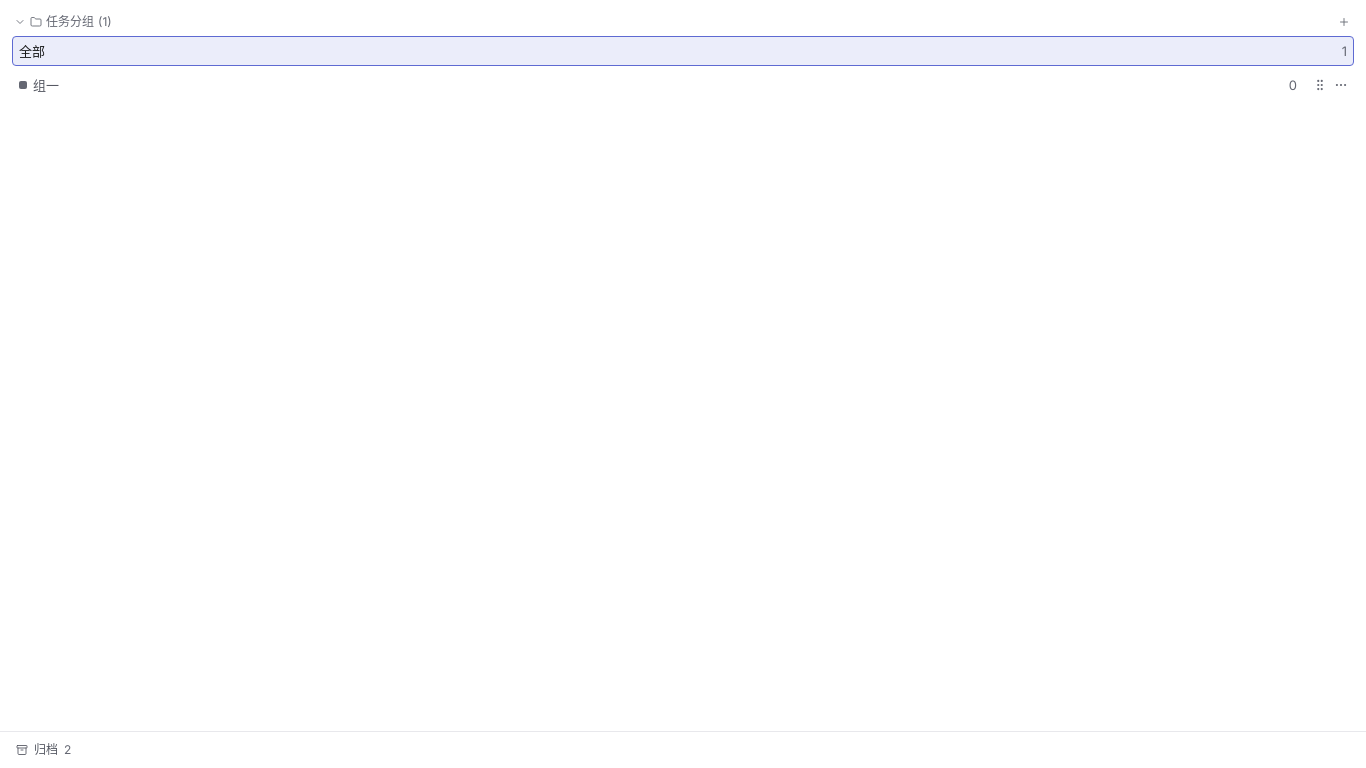
Test: TaskSidebarPanel（Task 14 重构：分组管理 + 归档入口） › 点归档入口打开 ArchivePanel（大号弹窗 + 归档行渲染）
This screenshot has width=1366, height=768.
Click the button "归档 2": (22, 750) [12,740,1354,760]
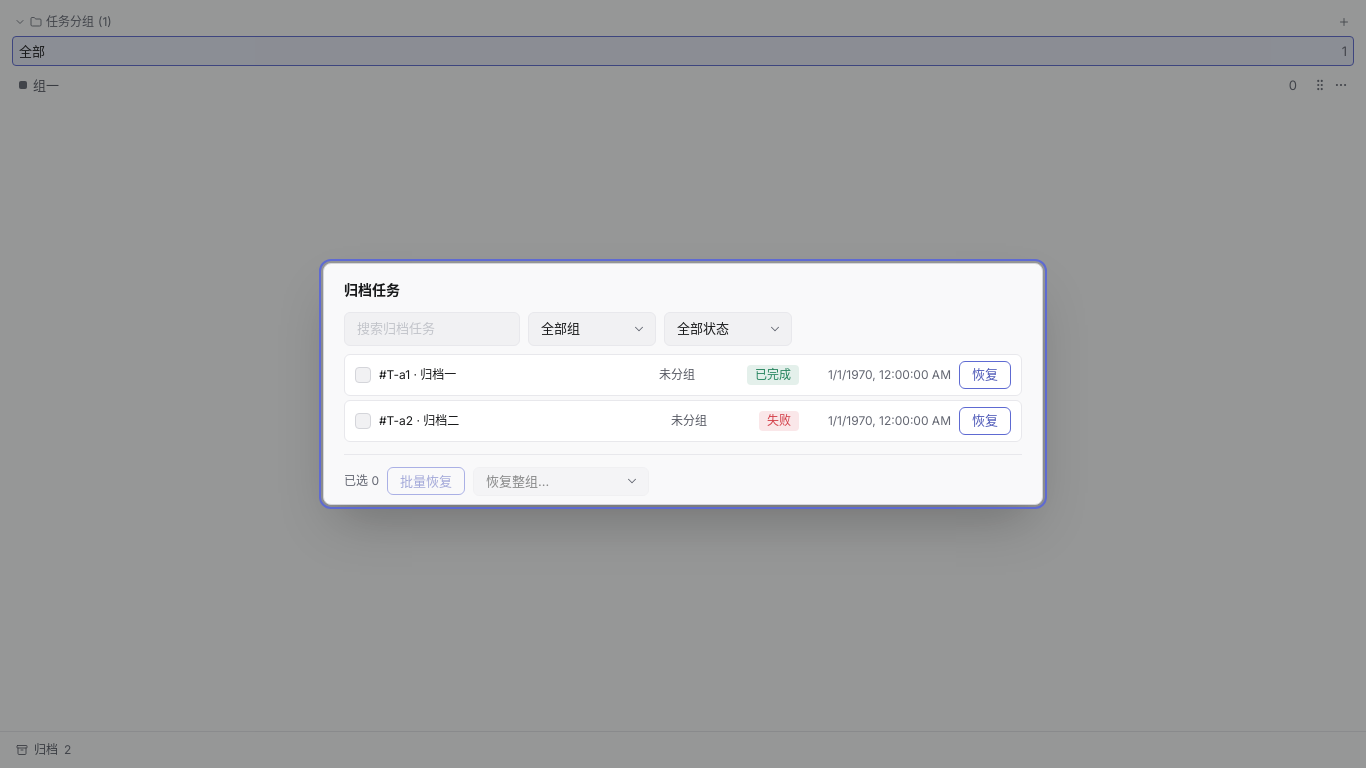
Now the dialog "归档任务" is shown, box [323,263,1043,505]
Now the text "#T-a1 · 归档一" is shown, box [379,366,456,382]
